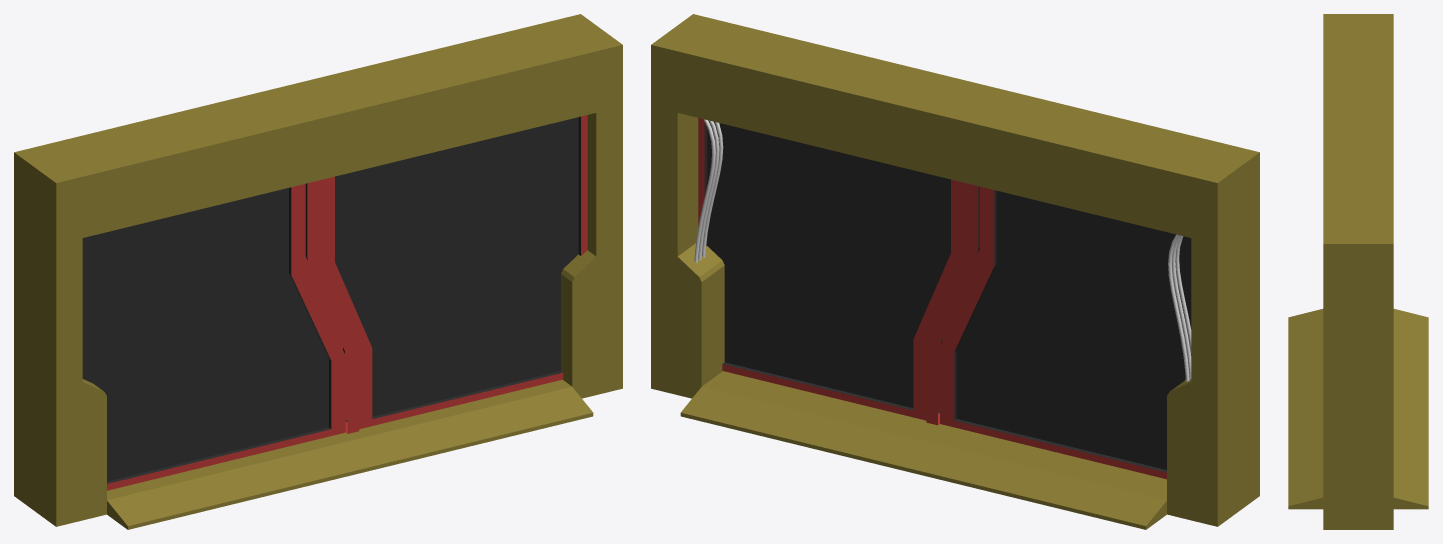
File: Gate.fbx
3 renders of one model, left to right at view 1: azimuth 30°, elevation 25°; view 2: azimuth 150°, elevation 25°; view 3: azimuth 270°, elevation 25°, orthographic. The views are drawn at different scales.
Visible parts, largest first — view 1: MainGate, GateDoor_L, GateDoor_R; view 2: MainGate, GateDoor_L, GateDoor_R; view 3: MainGate.
Boxes of the visible parts, bbox=[...] form: MainGate: bbox=[14, 14, 622, 529]; GateDoor_L: bbox=[305, 115, 587, 432]; GateDoor_R: bbox=[82, 181, 354, 490]; MainGate: bbox=[651, 14, 1259, 529]; GateDoor_L: bbox=[698, 118, 979, 423]; GateDoor_R: bbox=[931, 184, 1191, 479]; MainGate: bbox=[1288, 14, 1428, 529].
Size of the model in its own units: 687 by 398 by 177.
